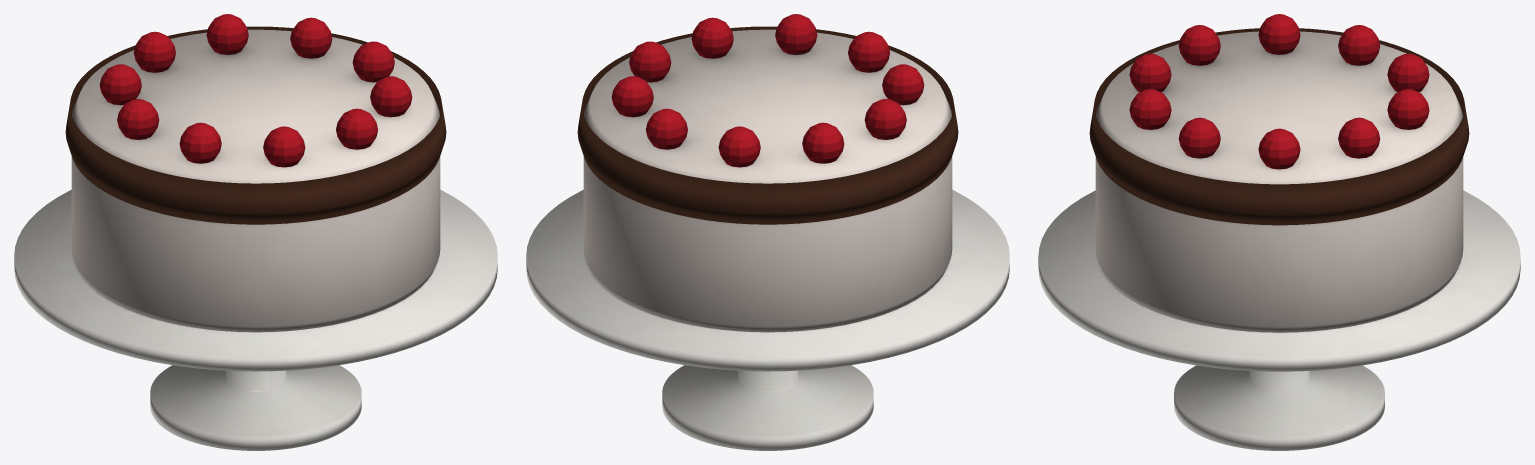
The model's file is berry-layer-cake.glb.
The picture shows the model from 3 angles, left to right: view 1: azimuth 30°, elevation 25°; view 2: azimuth 150°, elevation 25°; view 3: azimuth 270°, elevation 25°; orthographic projection.
Parts seen in each view (by area): view 1: icing_primary, ceramic_white, ganache, berry; view 2: icing_primary, ceramic_white, ganache, berry; view 3: icing_primary, ceramic_white, ganache, berry.
Part boxes in pixels (x1,y1,x2,y2): icing_primary: [71, 29, 440, 332]; ceramic_white: [14, 189, 497, 450]; ganache: [65, 26, 446, 224]; berry: [99, 14, 412, 167]; icing_primary: [583, 29, 952, 332]; ceramic_white: [526, 189, 1009, 450]; ganache: [577, 26, 958, 224]; berry: [611, 14, 924, 167]; icing_primary: [1095, 31, 1463, 332]; ceramic_white: [1038, 190, 1520, 450]; ganache: [1089, 28, 1469, 225]; berry: [1129, 14, 1429, 169].
Bounding box in the file's own units: 0.32 × 0.244 × 0.32.
Materials: 4 (4 with a texture image).
